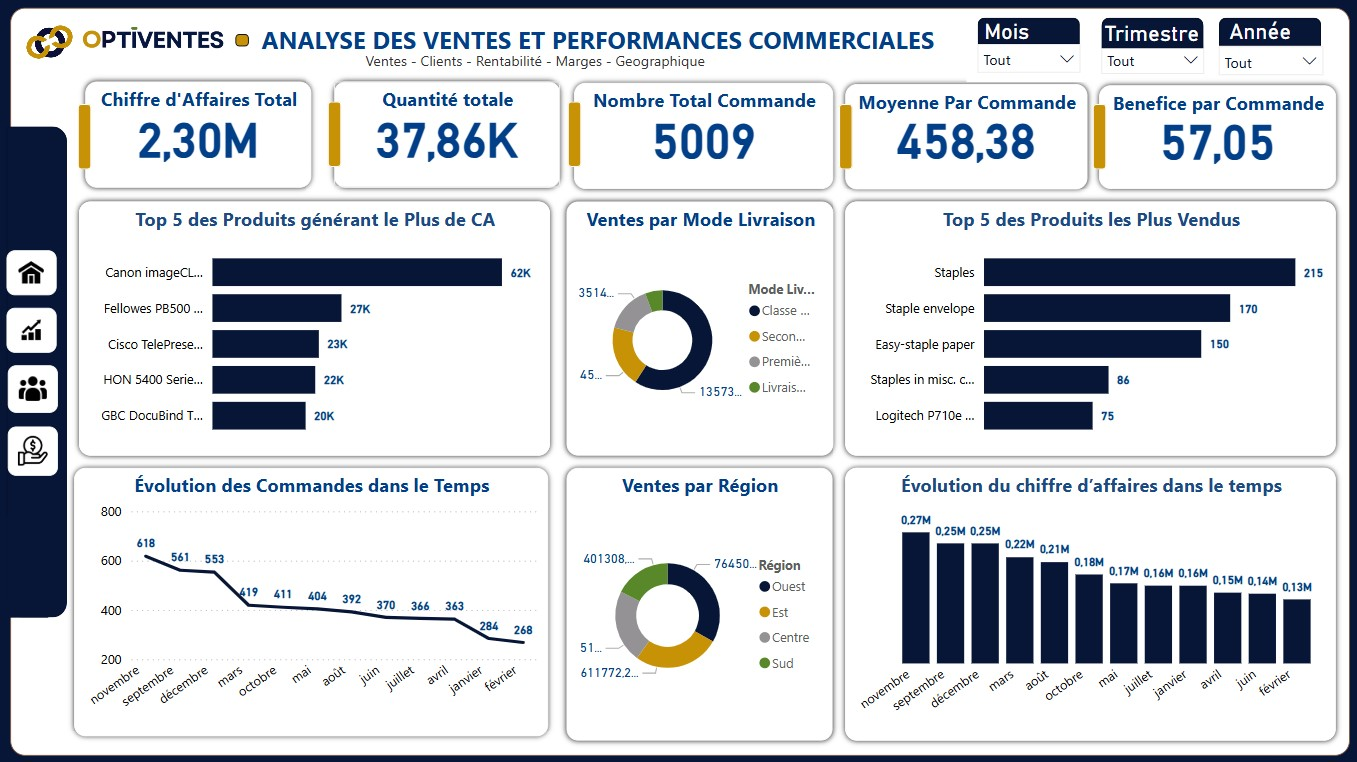

What the dashboard file says about the page in this screenshot:
{"tool":"powerbi","page":{"name":"Tableau de bord 1 - V&PC","canvas":[1280,720],"ordinal":3},"visuals":[{"type":"shape","box":[10.5,7.9,1260.5,703.9],"z":0},{"type":"shape","box":[7,119.8,57,448.8],"z":1000},{"type":"card","title":"Chiffre d''Affaires Total","fields":{"Values":["Ensemble Mesures.Total Ventes"]},"box":[81.4,77.9,212.8,100],"z":2000},{"type":"card","title":"Quantité totale","fields":{"Values":["Ensemble Mesures.Total Quantité"]},"box":[315.1,77.9,212.8,100],"z":3000},{"type":"card","title":"Nombre Total Commande","fields":{"Values":["Ensemble Mesures.Nombre Commandes"]},"box":[540.7,79.1,244.2,100],"z":4000},{"type":"shape","box":[8.1,465.1,55.8,117.4],"z":5000},{"type":"shape","box":[7,487.2,39.5,95.3],"z":6000},{"type":"card","title":"Moyenne Par Commande","fields":{"Values":["Ensemble Mesures.Valeur Moyenne Commande"]},"box":[796.5,80.2,227.9,98.8],"z":7000},{"type":"card","title":"Benefice par Commande","fields":{"Values":["Ensemble Mesures.Bénéfice Par Commande"]},"box":[1034.9,81.4,223.3,97.7],"z":8000},{"type":"columnChart","title":"Évolution du chiffre d’affaires dans le temps","fields":{"Category":["Calendrier.Mois"],"Y":["Ensemble Mesures.Total Ventes"]},"box":[796.1,440.8,461.8,256.6],"z":9000},{"type":"donutChart","title":"Ventes par Région","fields":{"Category":["Ventes_Par_Région.Région"],"Y":["Sum(Ventes_Par_Région.Total Ventes)"]},"box":[534.2,440.8,250,256.6],"z":10000},{"type":"barChart","title":"Top 5 des Produits générant le Plus de CA","fields":{"Category":["Top_5_Produits_CA.Nom produit"],"Y":["Sum(Top_5_Produits_CA.Total Ventes)"]},"box":[75,190.8,443.4,239.5],"z":11000},{"type":"lineChart","title":"Évolution  des Commandes dans le Temps","fields":{"Category":["Calendrier.Mois"],"Y":["Ensemble Mesures.Nombre_Commandes_Par_Mois"]},"box":[71.1,440.8,446.1,252.6],"z":12000},{"type":"barChart","title":"Top 5 des Produits les Plus Vendus","fields":{"Category":["Top_5 Produits vendus.Nom produit"],"Y":["Sum(Top_5 Produits vendus.Total Quantité)"]},"box":[796.1,190.8,461.8,239.5],"z":13000},{"type":"textbox","title":"Ventes - Clients - Rentabilité - Marges - Geographique","box":[322.4,48.7,364.5,18.4],"z":14000},{"type":"shape","box":[222.4,32.9,12.9,11.8],"z":15000},{"type":"textbox","title":"ANALYSE DES VENTES ET PERFORMANCES COMMERCIALES","box":[235.5,22.4,656.6,34.2],"z":16000},{"type":"shape","box":[74.4,98.8,12.8,61.6],"z":17000},{"type":"shape","box":[309.3,96.5,12.8,61.6],"z":18000},{"type":"shape","box":[534.9,96.5,12.8,61.6],"z":19000},{"type":"shape","box":[790.7,98.8,12.8,61.6],"z":20000},{"type":"shape","box":[1029.1,98.8,12.8,61.6],"z":21000},{"type":"image","box":[6.6,290.8,47.4,42.1],"z":22000},{"type":"textbox","title":"Date","box":[1060.5,17.4,134.9,24.4],"z":23000},{"type":"image","box":[6.6,236.8,47.4,42.1],"z":24000},{"type":"image","box":[7.9,344.7,47.4,44.7],"z":25000},{"type":"donutChart","title":"Ventes par Mode Livraison","fields":{"Category":["Ventes_Mode_Livraison.Mode Livraison"],"Y":["Sum(Ventes_Mode_Livraison.Total Ventes)"]},"box":[534.2,190.8,251.3,239.5],"z":26000},{"type":"slicer","title":"Produits","fields":{"Values":["Calendrier.Année"]},"box":[1138.2,34.2,118.4,44.7],"z":27000},{"type":"slicer","title":"Produits","fields":{"Values":["Calendrier.Trimestre"]},"box":[1027.6,32.9,117.1,38.2],"z":28000},{"type":"slicer","title":"Produits","fields":{"Values":["Calendrier.Mois"]},"box":[910.5,31.6,117.1,46.1],"z":29000},{"type":"shape","box":[921.1,17.1,96.1,25],"z":30000},{"type":"textbox","title":"Mois","box":[922.4,18.4,72.4,25],"z":31000},{"type":"shape","box":[1038.2,17.1,96.1,28.9],"z":32000},{"type":"textbox","title":"Trimestre","box":[1035.5,19.7,103.9,25],"z":33000},{"type":"shape","box":[1148.8,17.1,96.3,26.8],"z":34000},{"type":"image","box":[7.9,402.6,47.4,46.1],"z":36000},{"type":"image","box":[0,3.9,102.6,77.6],"z":37000},{"type":"image","box":[15.3,2.4,261.2,81.2],"z":38000},{"type":"textbox","title":"Année","box":[1153.7,17.1,69.5,25.6],"z":38001}]}

Visuals, with their boxes in screenshot pixels (x1, y1, x2, y2), scaled from the page's 1280x720 canvas onto the 1357x762 screenshot:
shape: locate(11, 8, 1347, 753)
shape: locate(7, 127, 68, 602)
"Chiffre d''Affaires Total" card: locate(86, 82, 312, 188)
"Quantité totale" card: locate(334, 82, 560, 188)
"Nombre Total Commande" card: locate(573, 84, 832, 190)
shape: locate(9, 492, 68, 616)
shape: locate(7, 516, 49, 616)
"Moyenne Par Commande" card: locate(844, 85, 1086, 189)
"Benefice par Commande" card: locate(1097, 86, 1334, 190)
"Évolution du chiffre d’affaires dans le temps" columnChart: locate(844, 467, 1334, 738)
"Ventes par Région" donutChart: locate(566, 467, 831, 738)
"Top 5 des Produits générant le Plus de CA" barChart: locate(80, 202, 550, 455)
"Évolution  des Commandes dans le Temps" lineChart: locate(75, 467, 548, 734)
"Top 5 des Produits les Plus Vendus" barChart: locate(844, 202, 1334, 455)
"Ventes - Clients - Rentabilité - Marges - Geographique" textbox: locate(342, 52, 728, 71)
shape: locate(236, 35, 249, 47)
"ANALYSE DES VENTES ET PERFORMANCES COMMERCIALES" textbox: locate(250, 24, 946, 60)
shape: locate(79, 105, 92, 170)
shape: locate(328, 102, 341, 167)
shape: locate(567, 102, 581, 167)
shape: locate(838, 105, 852, 170)
shape: locate(1091, 105, 1105, 170)
image: locate(7, 308, 57, 352)
"Date" textbox: locate(1124, 18, 1267, 44)
image: locate(7, 251, 57, 295)
image: locate(8, 365, 59, 412)
"Ventes par Mode Livraison" donutChart: locate(566, 202, 833, 455)
"Produits" slicer: locate(1207, 36, 1332, 84)
"Produits" slicer: locate(1089, 35, 1214, 75)
"Produits" slicer: locate(965, 33, 1089, 82)
shape: locate(977, 18, 1078, 45)
"Mois" textbox: locate(978, 19, 1055, 46)
shape: locate(1101, 18, 1203, 49)
"Trimestre" textbox: locate(1098, 21, 1208, 47)
shape: locate(1218, 18, 1320, 46)
image: locate(8, 426, 59, 475)
image: locate(0, 4, 109, 86)
image: locate(16, 3, 293, 88)
"Année" textbox: locate(1223, 18, 1297, 45)
